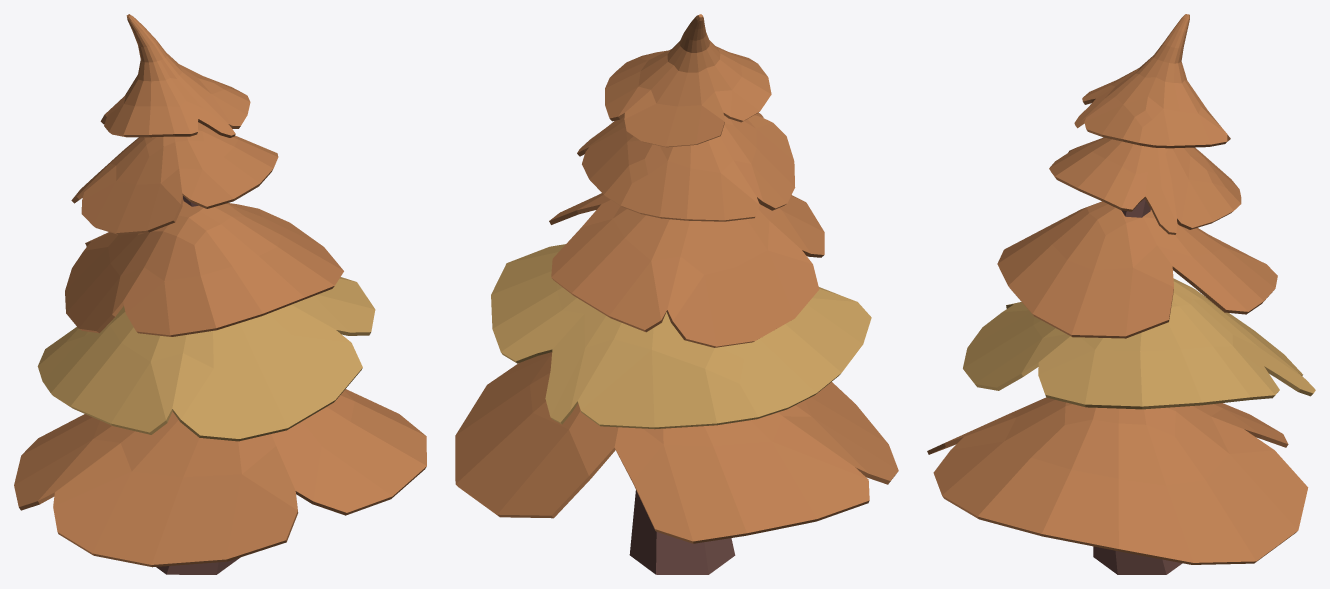
The model's file is pinetree_autumn_1.glb.
3 views of the same model, side by side, from view 1: azimuth 30°, elevation 25°; view 2: azimuth 150°, elevation 25°; view 3: azimuth 270°, elevation 25° (orthographic). The views are drawn at different scales.
Parts seen in each view (by area): view 1: PineTree_Autumn_1; view 2: PineTree_Autumn_1; view 3: PineTree_Autumn_1.
Boxes of the visible parts, x1,y1,x2,y2 form: PineTree_Autumn_1: (14,14,426,574); PineTree_Autumn_1: (455,14,898,574); PineTree_Autumn_1: (927,14,1315,574).
Size of the model in its own units: 1.96 by 2.7 by 1.82.
